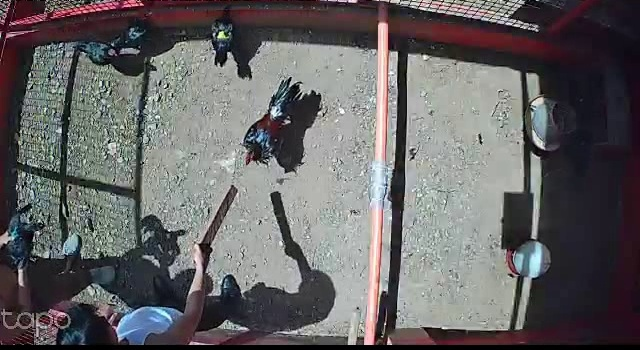Chicken: (111, 11, 158, 54), (69, 37, 129, 67), (211, 14, 236, 69)
Saddle_Color_Blue: (233, 72, 310, 179)
Saddle_Color_Yellow: (215, 29, 231, 42)
